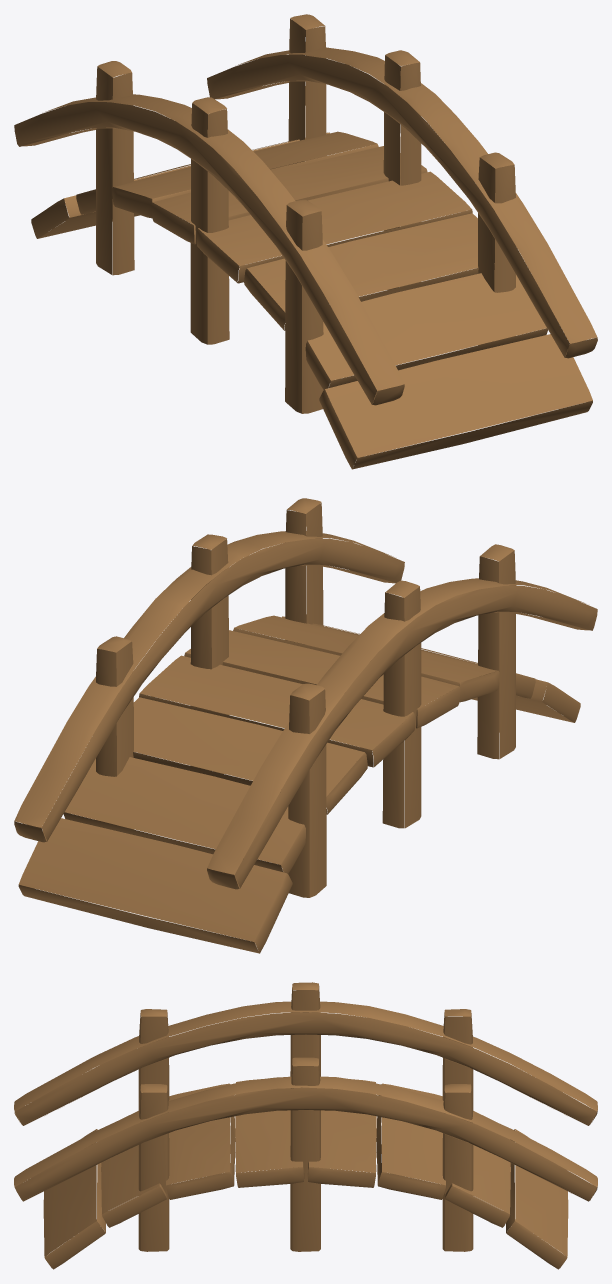
Rendered from bridge-0.glb.
3 renders of one model, top to bottom at view 1: azimuth 30°, elevation 25°; view 2: azimuth 150°, elevation 25°; view 3: azimuth 270°, elevation 25°, orthographic. The views are drawn at different scales.
Visible parts, largest first — view 1: bridge-0; view 2: bridge-0; view 3: bridge-0.
Part boxes in pixels (bbox=[...]): bridge-0: bbox=[14, 14, 597, 469]; bridge-0: bbox=[14, 498, 597, 953]; bridge-0: bbox=[14, 982, 597, 1269].
Size of the model in its own units: 0.7598 by 0.7554 by 2.
